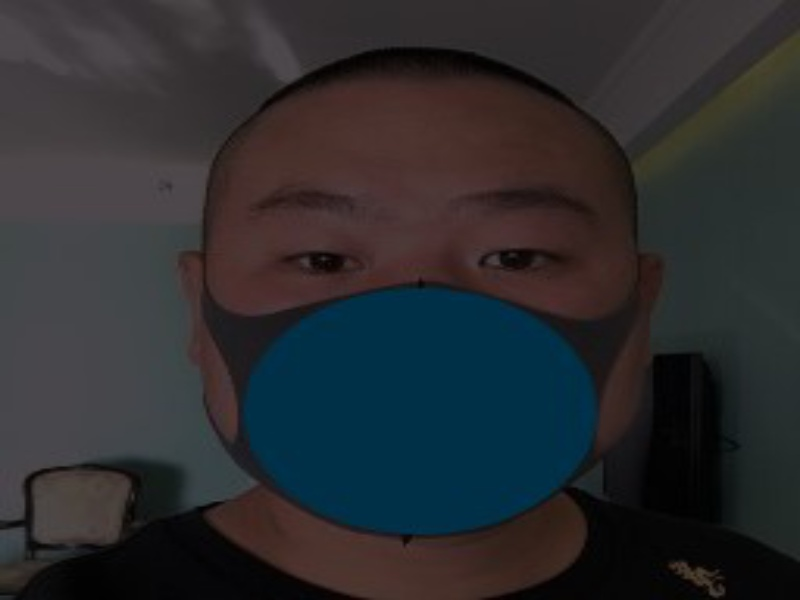ManaoArotava: (163, 28, 712, 584)
